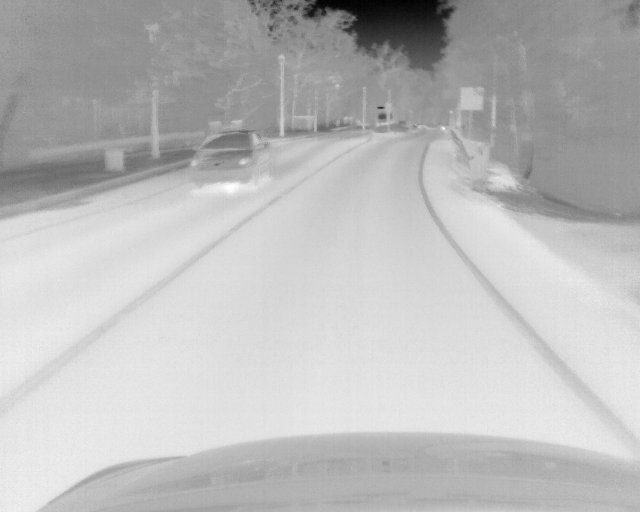car: (190, 128, 273, 193)
